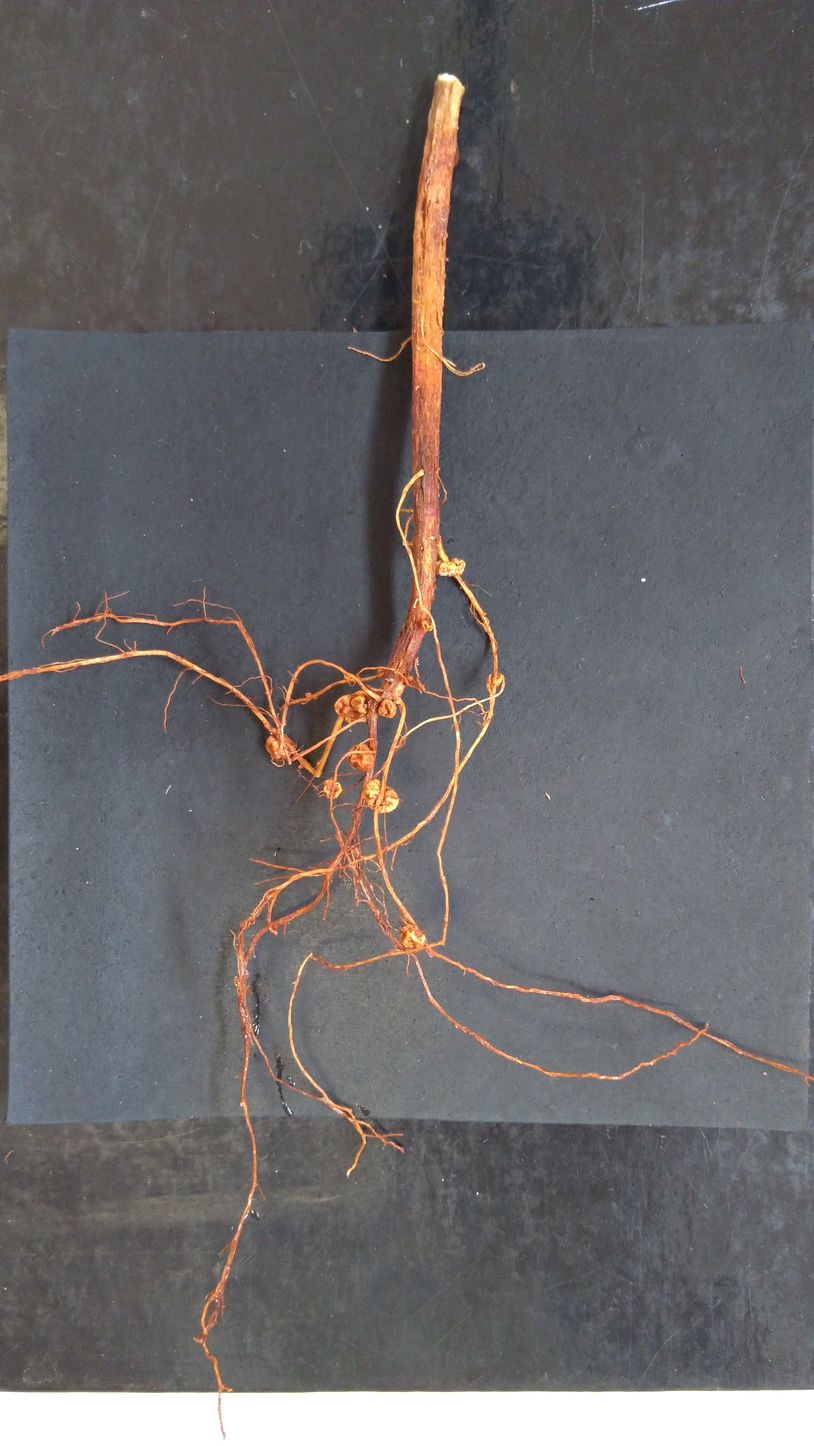nodule: (362, 777, 400, 815), (331, 691, 371, 724), (263, 732, 298, 763), (346, 742, 375, 774), (396, 921, 428, 950), (376, 698, 399, 720), (322, 777, 342, 800), (437, 561, 458, 579), (350, 695, 368, 714), (450, 557, 467, 577), (488, 672, 504, 691), (420, 619, 436, 632), (375, 667, 387, 677), (404, 674, 415, 684), (304, 691, 312, 697)
